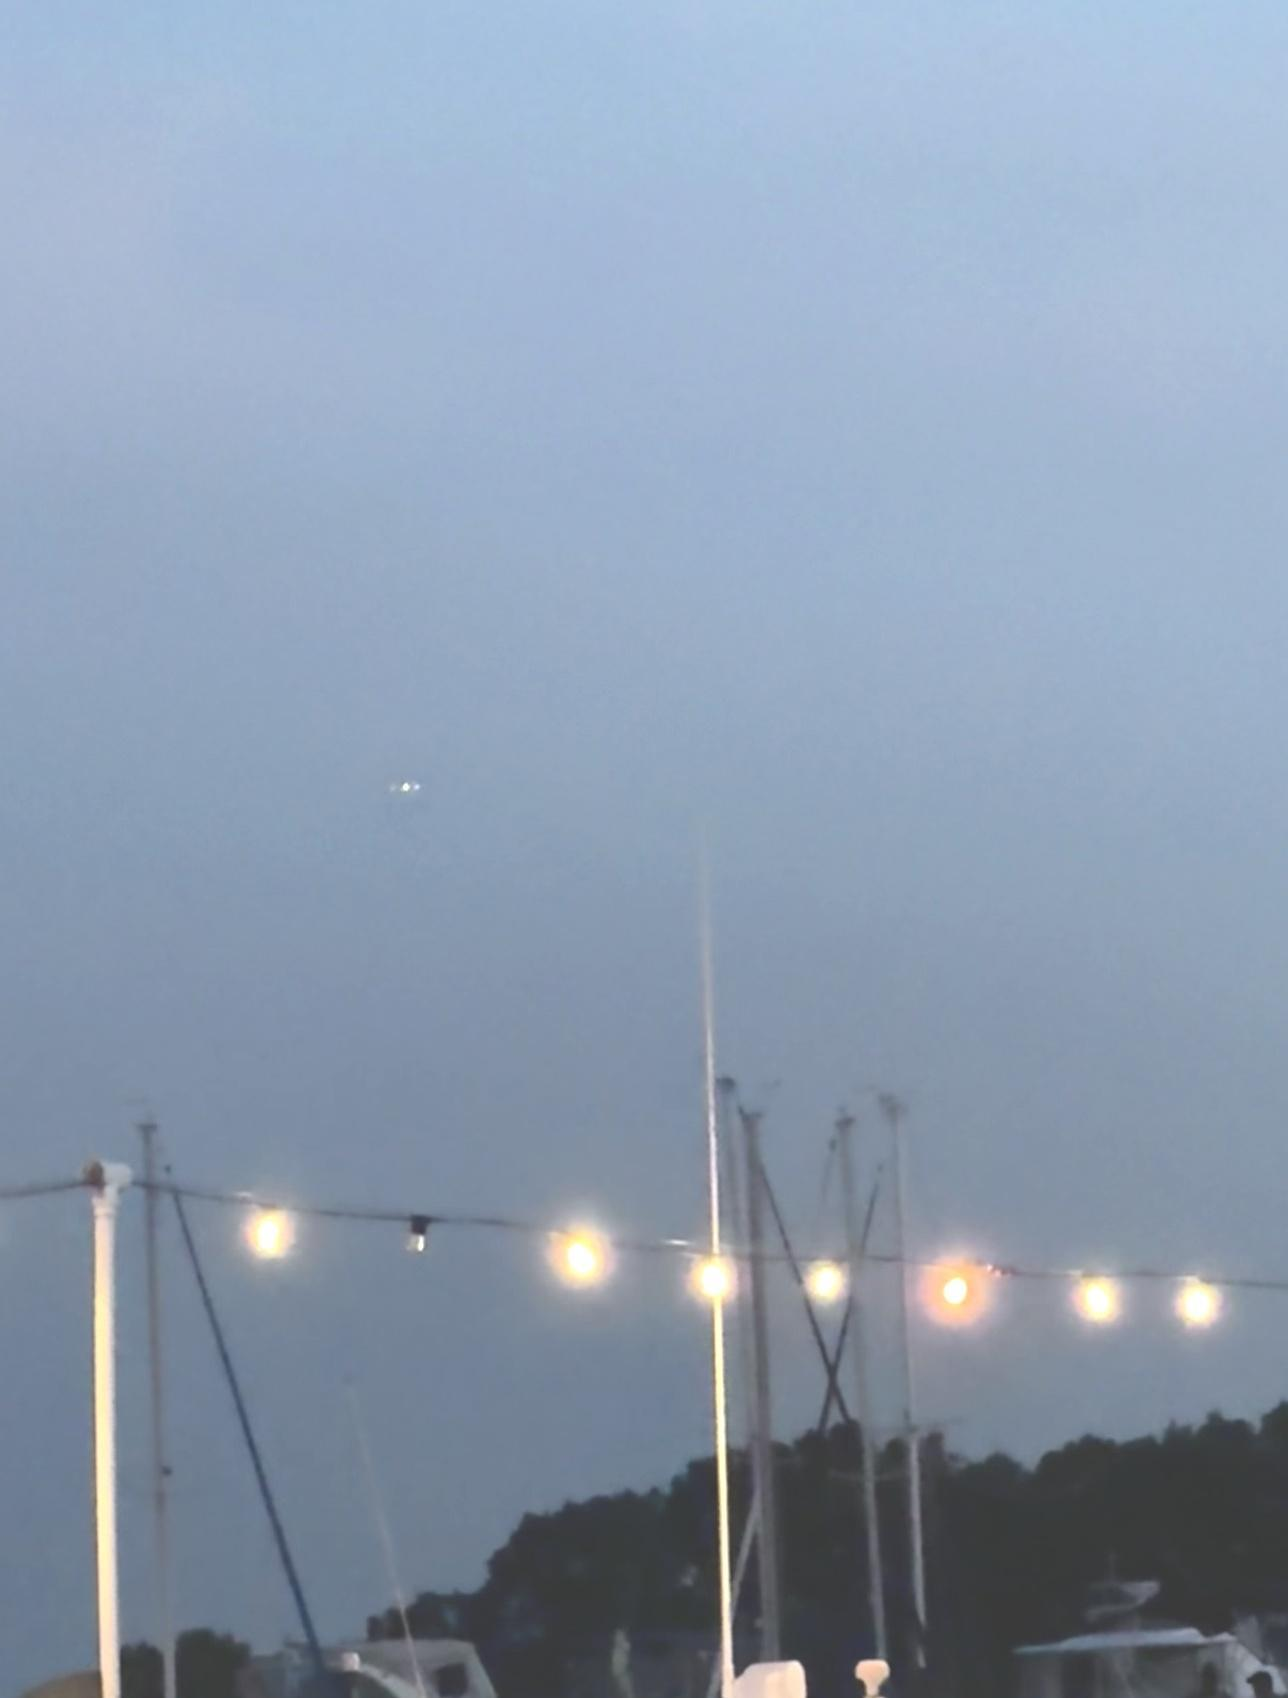Plane: (373, 771, 437, 805)
